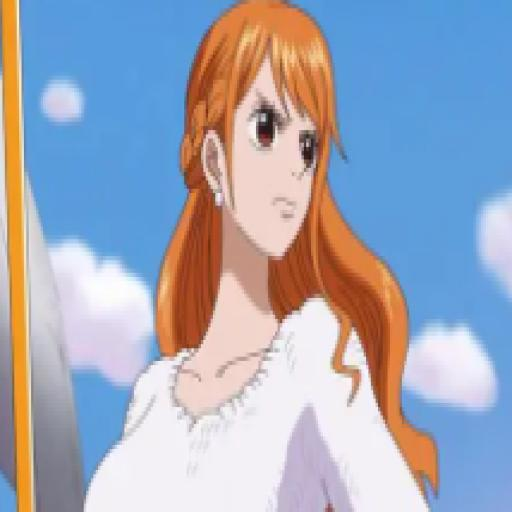Nami: (83, 0, 453, 512)
